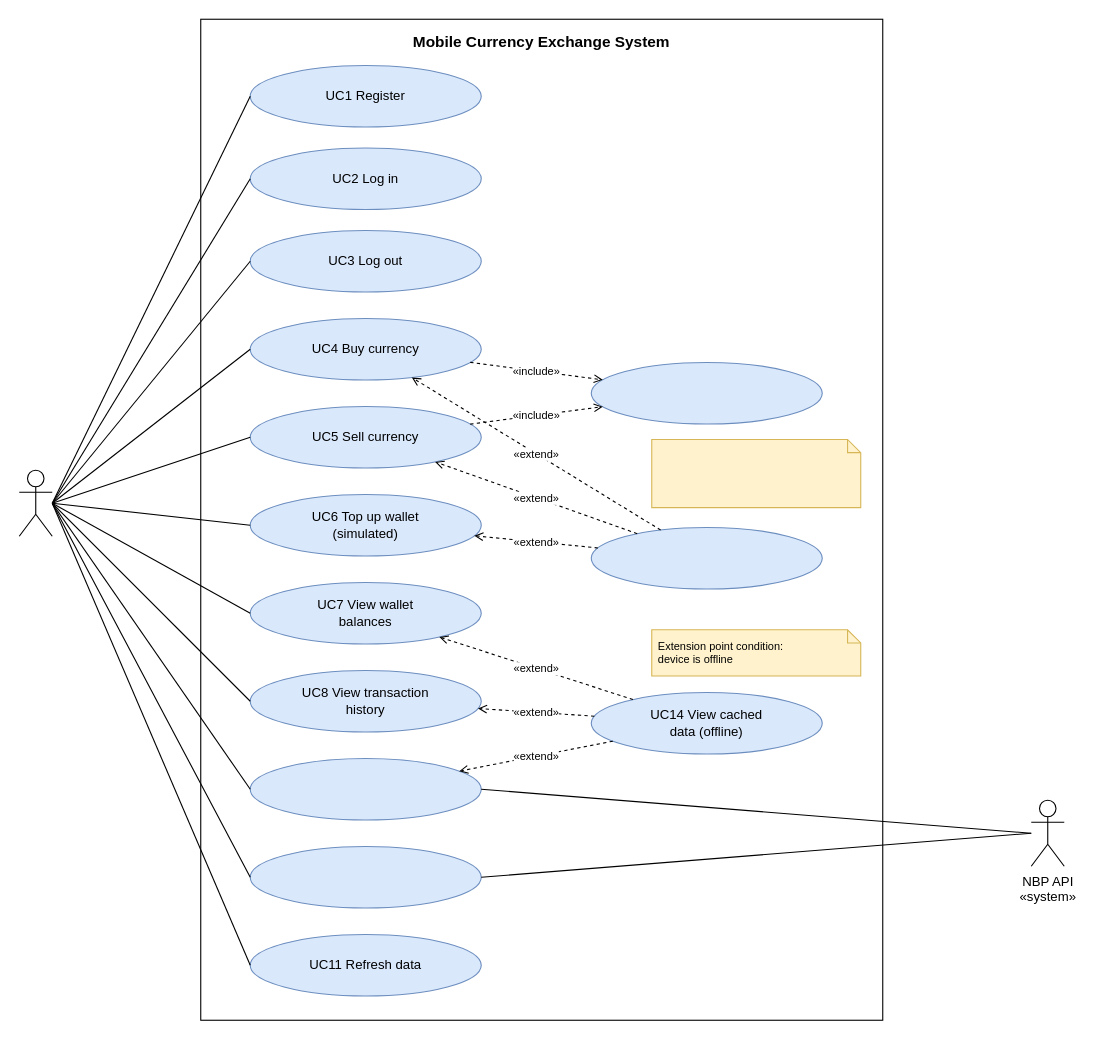
Image size: 1095x1040. Some labels were removed from this diagram. Each missing label, with the centre of its shape:
"Extension point condition: no server response before timeout (10 s)" goes at (x=756, y=473).
"UC10 View rate history" goes at (x=365, y=876).
"UC12 Confirm operation" goes at (x=706, y=392).
"UC13 Check operation status" goes at (x=706, y=557).
"UC9 View current rates" goes at (x=365, y=788).
"User" goes at (x=35, y=502).
